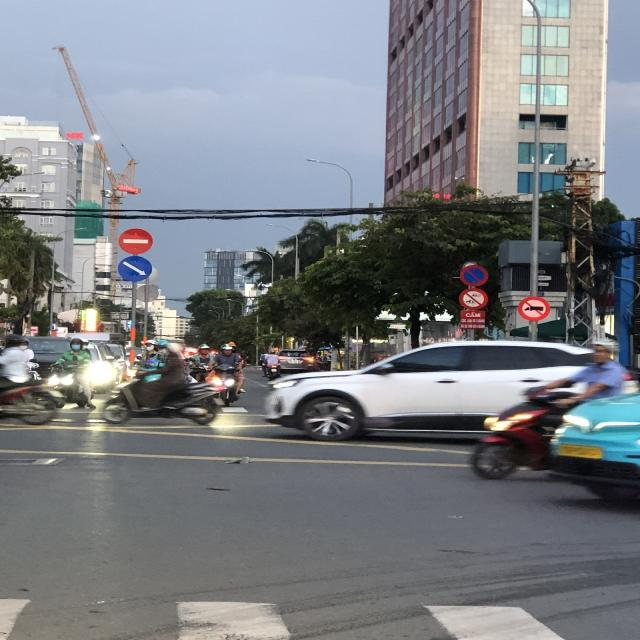Bien bao cam di nguoc chieu: (116, 226, 155, 254)
Bien bao cam do xe: (458, 262, 491, 287)
Bien bao cam xe so-mi ro-mooc: (516, 294, 550, 324)
Bien bao huong phai di vong chuong ngai vat: (118, 254, 154, 281)
